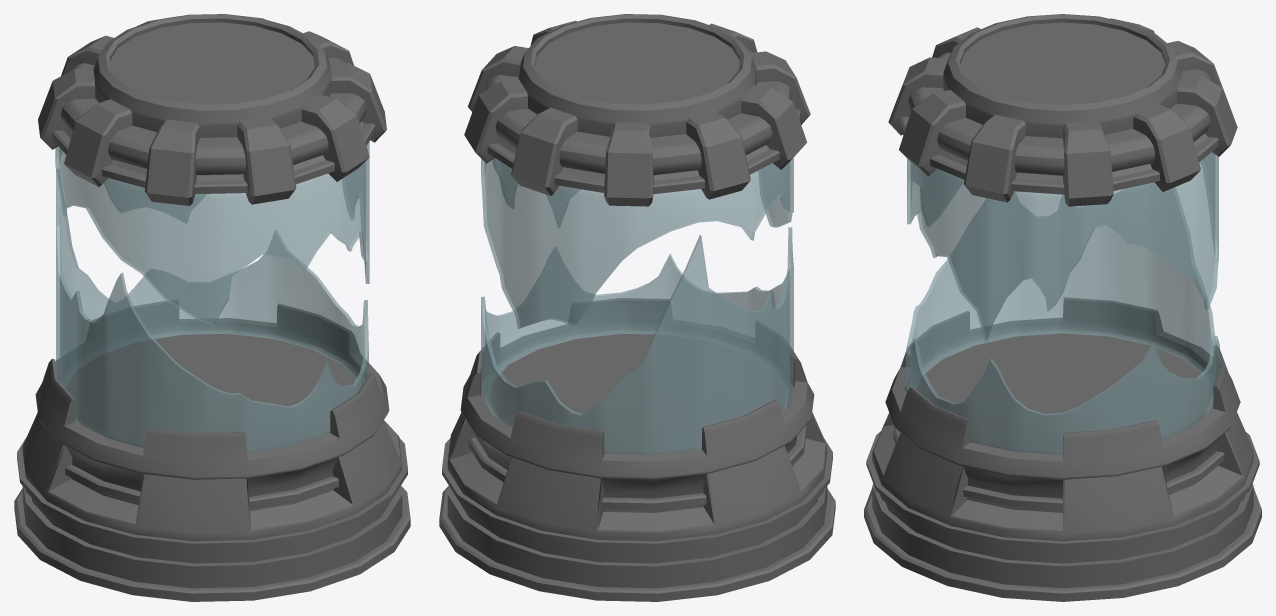
File: broken_capsule_0.1 (1).fbx
3 views of the same model, side by side, from view 1: azimuth 30°, elevation 25°; view 2: azimuth 150°, elevation 25°; view 3: azimuth 270°, elevation 25° (orthographic).
Visible parts, largest first — view 1: cristal_base, cristal_tapa; view 2: cristal_base, cristal_tapa; view 3: cristal_base, cristal_tapa.
Part boxes in pixels (x1=…): cristal_base: x1=14, y1=169, x2=410, y2=601; cristal_tapa: x1=38, y1=14, x2=386, y2=324; cristal_base: x1=439, y1=227, x2=835, y2=601; cristal_tapa: x1=464, y1=14, x2=810, y2=328; cristal_base: x1=864, y1=183, x2=1261, y2=601; cristal_tapa: x1=888, y1=14, x2=1237, y2=341.
Size of the model in its own units: 684 by 684 by 871.
